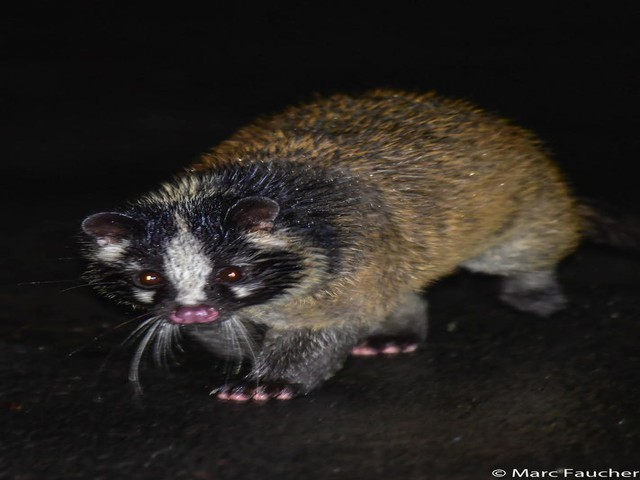civet: (77, 85, 593, 411)
